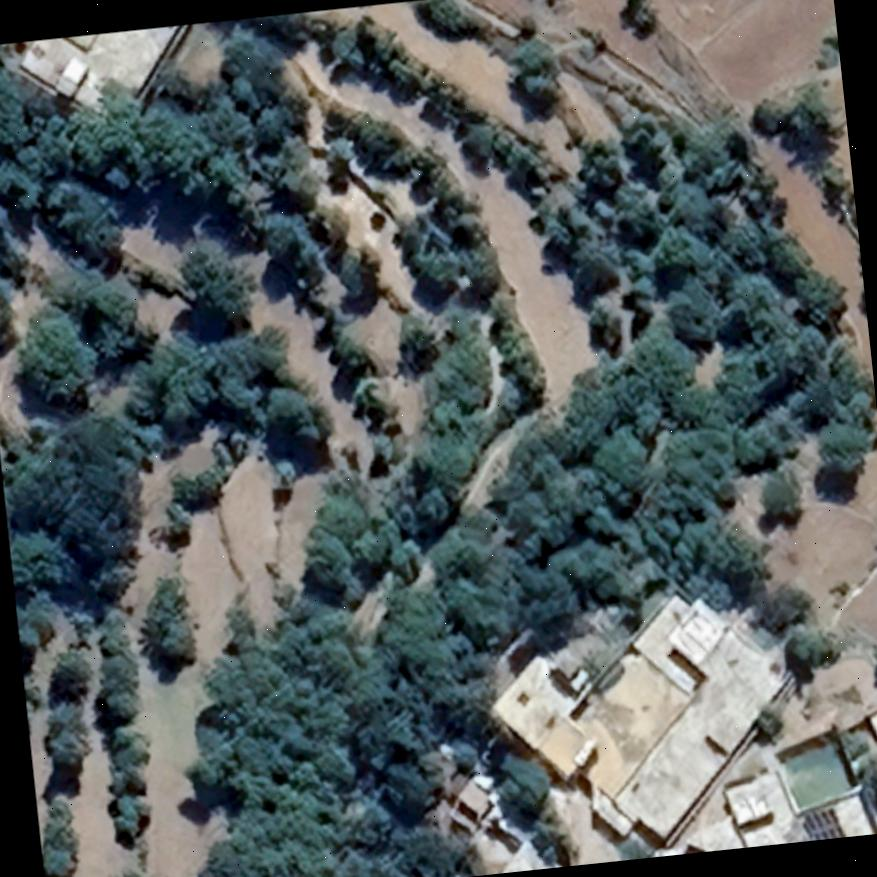Solarpanel: (799, 805, 846, 841)
